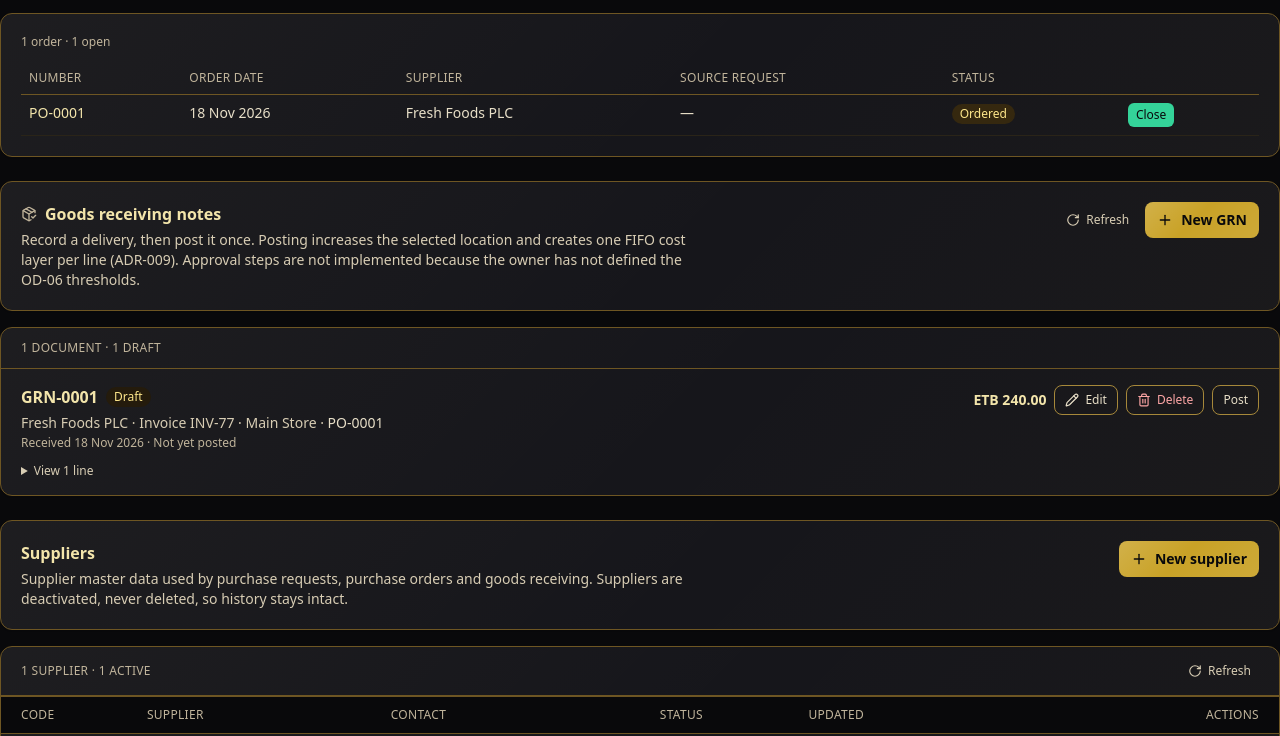
Test: Purchasing - goods receiving › keeps the purchase order link fixed when editing a linked GRN
(page scrolled)
Click the button with aria-label "edit grn grn-0001".
click(1086, 400)  # box [1054,385,1118,415]
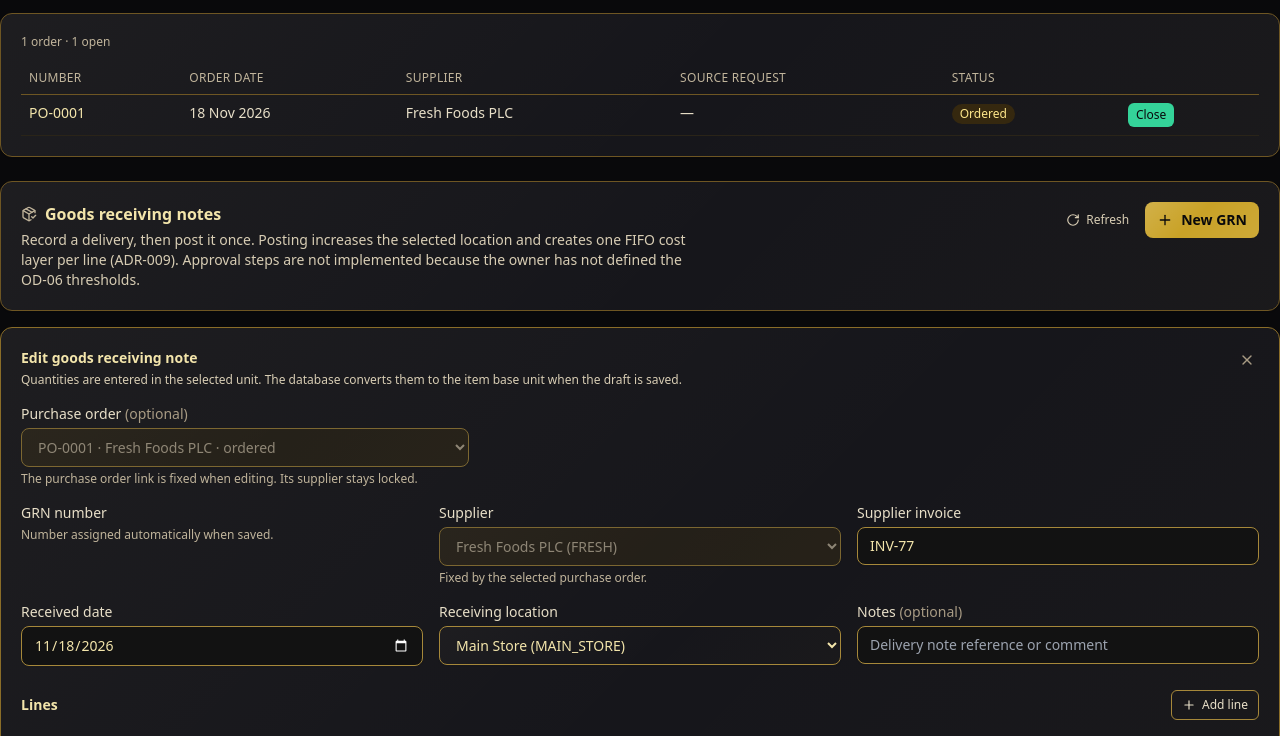
Check: the dropdown labelled "Purchase order (optional)" shows "PO-0001 · Fresh Foods PLC · ordered", box [21,428,469,467]
Check: the dropdown labelled "Purchase order (optional)" is disabled, box [21,428,469,467]
Check: the dropdown labelled "Supplier" is disabled, box [439,527,841,566]
